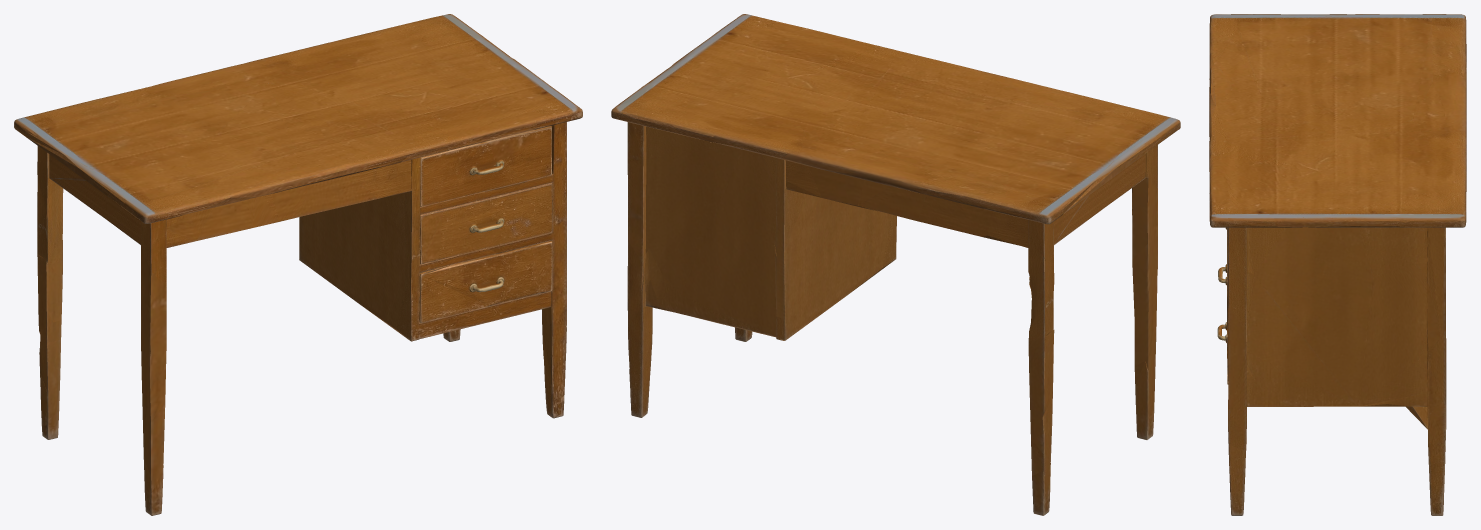
The model's file is scrivania.glb.
3 renders of one model, left to right at view 1: azimuth 30°, elevation 25°; view 2: azimuth 150°, elevation 25°; view 3: azimuth 270°, elevation 25°, orthographic. The views are drawn at different scales.
Parts seen in each view (by area): view 1: Mesh_0; view 2: Mesh_0; view 3: Mesh_0.
Boxes of the visible parts, bbox=[...] form: Mesh_0: bbox=[14, 14, 582, 515]; Mesh_0: bbox=[611, 14, 1180, 515]; Mesh_0: bbox=[1209, 14, 1466, 515].
Bounding box in the file's own units: 1.9 × 1.3 × 1.
1 material, 1 textured.
